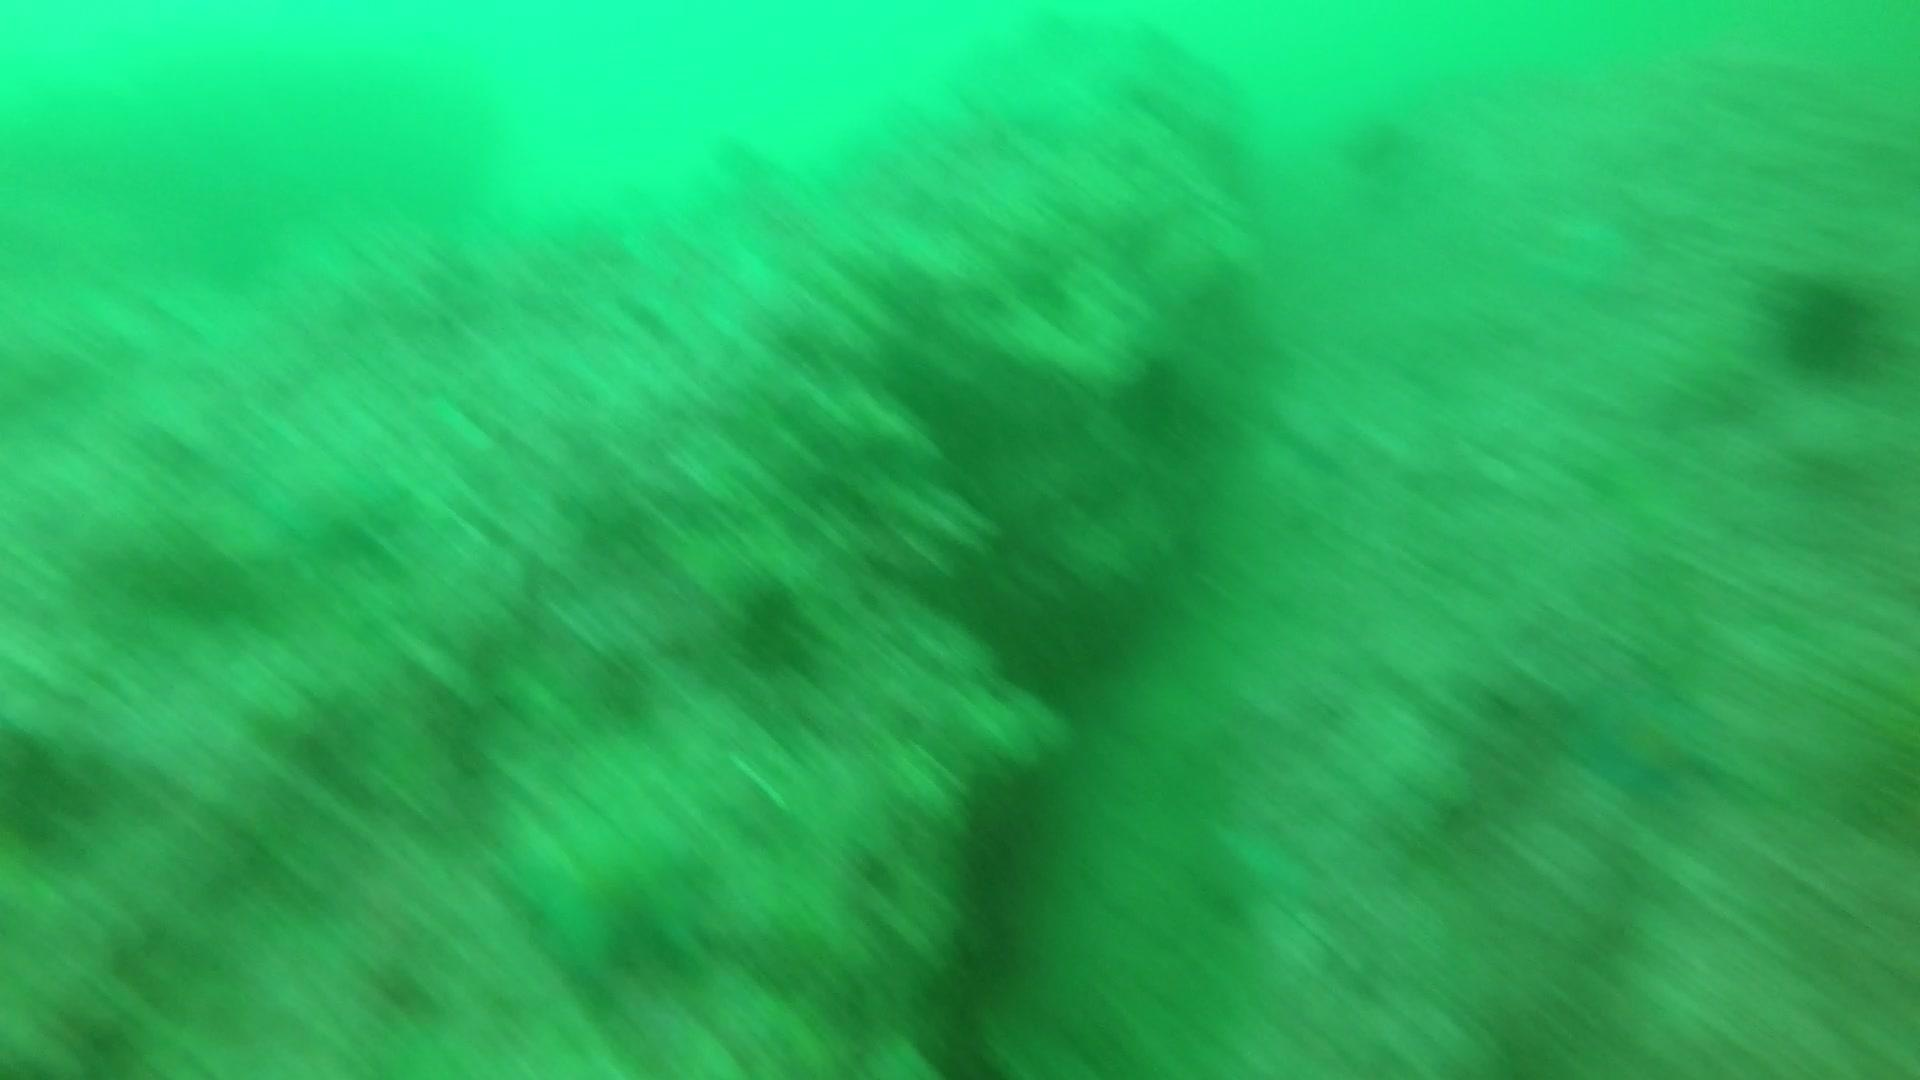echinus: (1762, 264, 1890, 384), (0, 717, 109, 856), (1337, 105, 1425, 182)
starfish: (496, 789, 723, 985), (1563, 673, 1727, 806)
